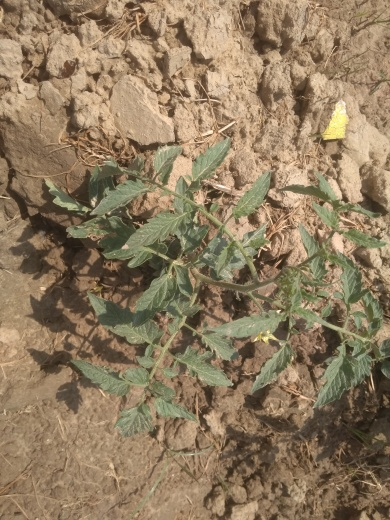tomato flower: (254, 326, 279, 349)
tomato plant: (92, 182, 390, 402)
